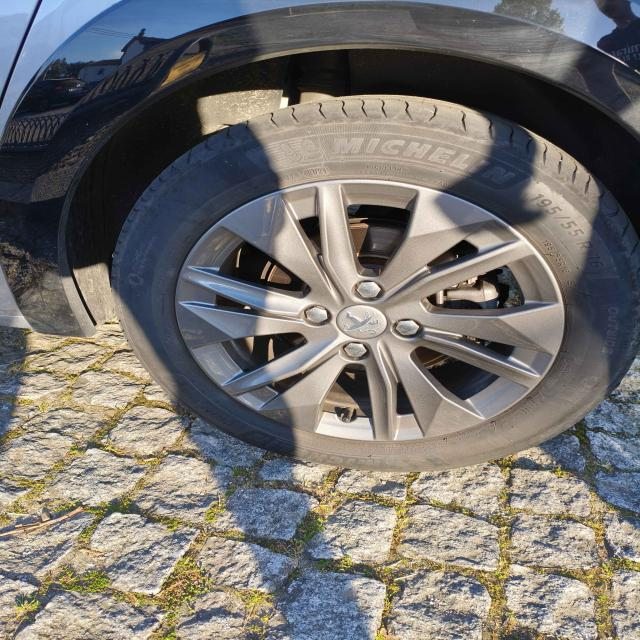jante: (173, 180, 567, 442)
parafuso: (356, 282, 382, 300), (304, 306, 329, 324), (342, 342, 367, 360), (394, 319, 420, 336)
roda: (110, 94, 640, 471)
